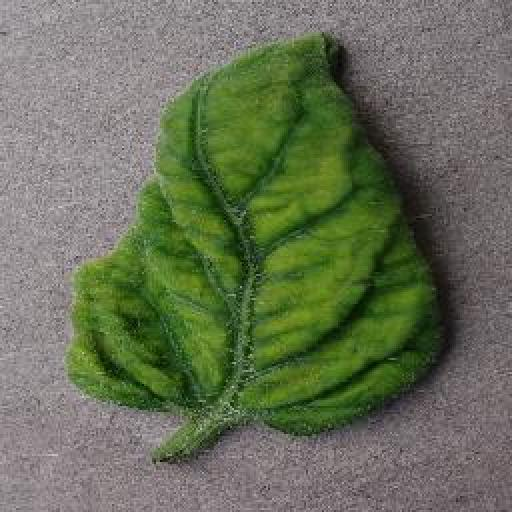disease_tomato: (65, 36, 448, 440)
